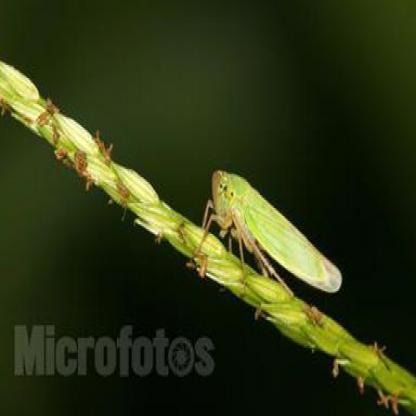Green-Leafhopper: (193, 152, 347, 302)
